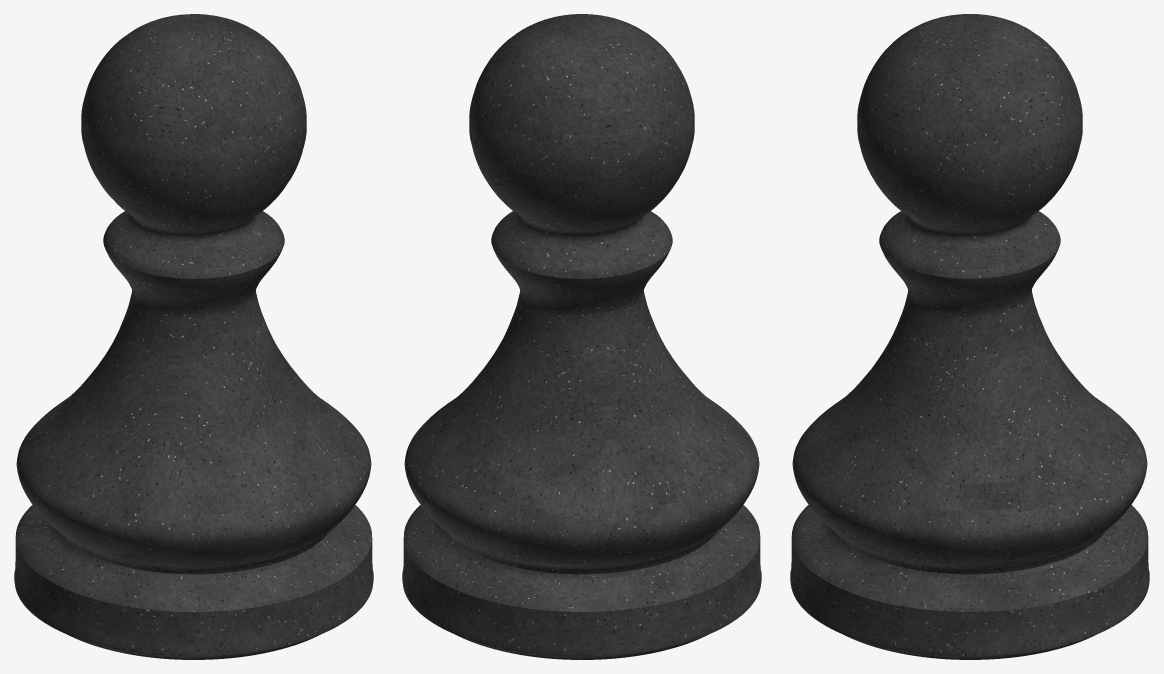
Rendered from pawn-black-hd.glb.
3 views of the same model, side by side, from view 1: azimuth 30°, elevation 25°; view 2: azimuth 150°, elevation 25°; view 3: azimuth 270°, elevation 25° (orthographic).
Visible parts, largest first — view 1: pesec_cerna; view 2: pesec_cerna; view 3: pesec_cerna.
Boxes of the visible parts, bbox=[...] form: pesec_cerna: bbox=[14, 14, 373, 659]; pesec_cerna: bbox=[402, 14, 761, 659]; pesec_cerna: bbox=[790, 14, 1149, 659].
Bounding box in the file's own units: 0.4949 × 0.87 × 0.4949.
Materials: 1 (1 with a texture image).
